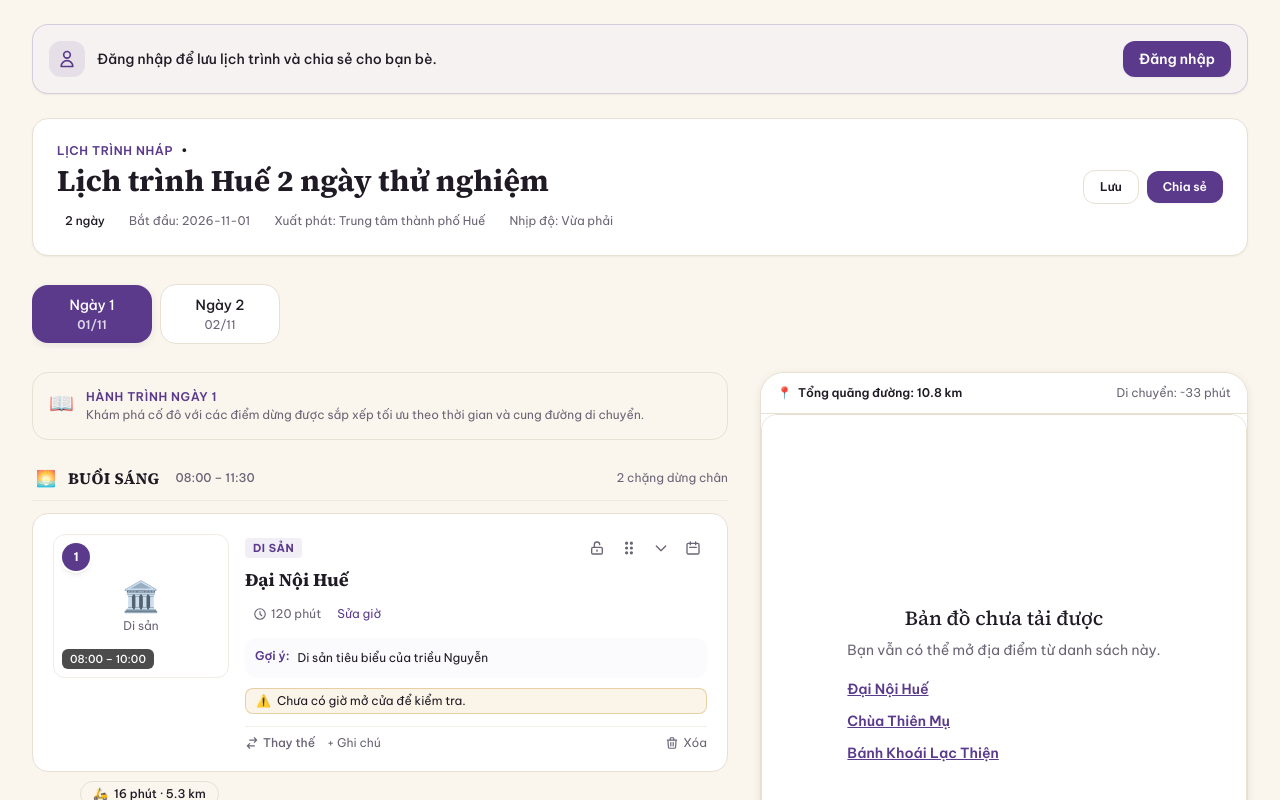
Test case: TripEditorPage › moves item to another day
Click the button titled "Chuyển ngày" at (693, 548), box x1=679 y1=534 x2=707 y2=562
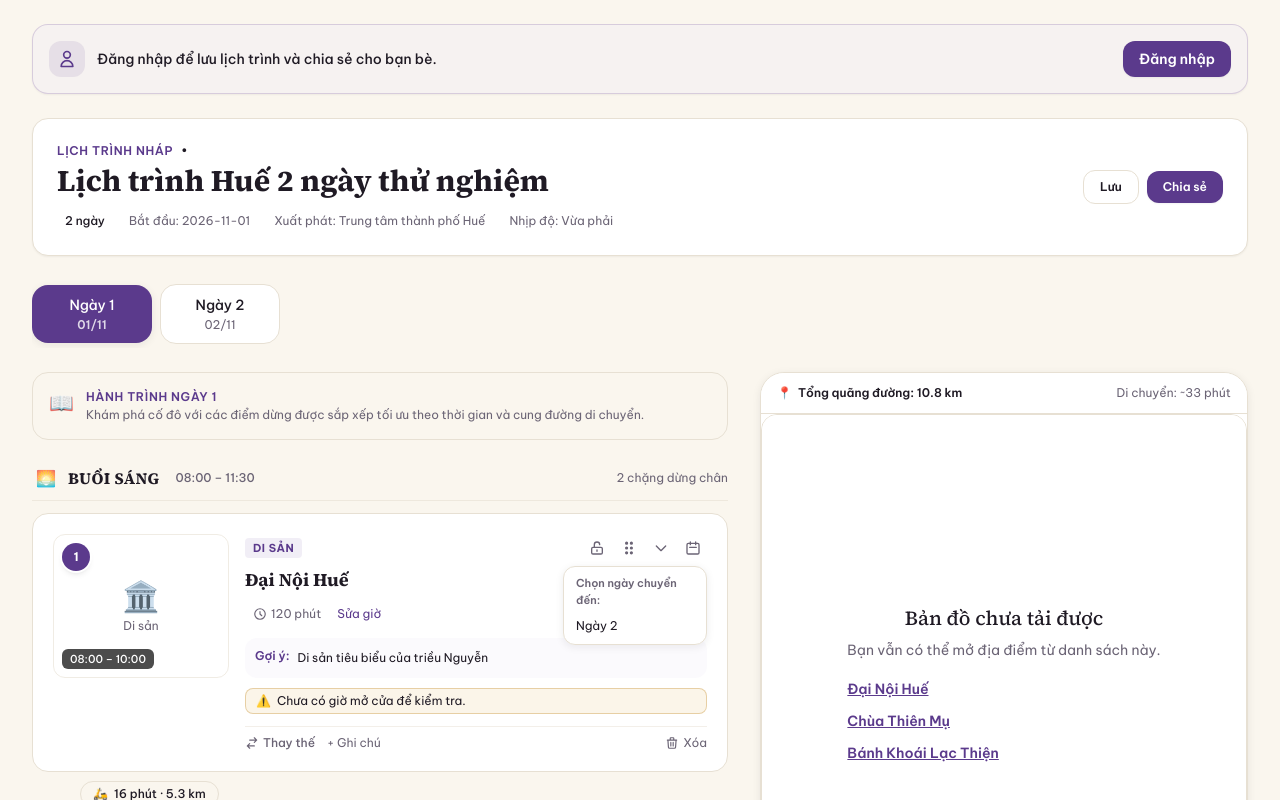
Expected: the button "Ngày 2" is shown
Click the button "Ngày 2" at (635, 626), box x1=568 y1=612 x2=702 y2=640
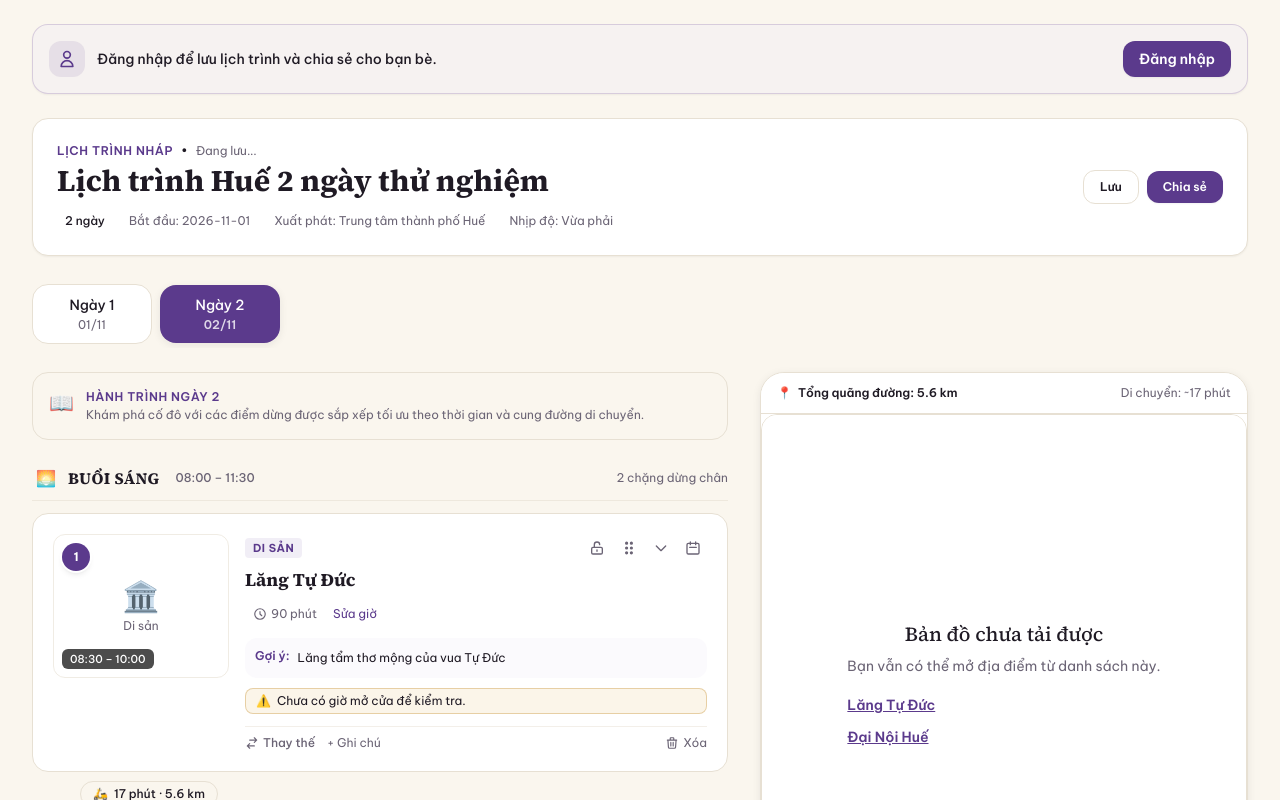
Expected: the text "Hành trình Ngày 2" is shown, x1=86 y1=389 x2=220 y2=404
